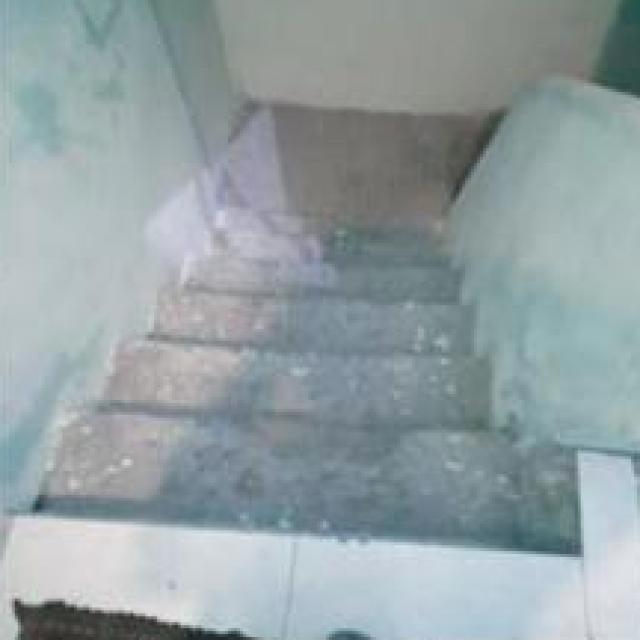downstair: (48, 336, 505, 585)
